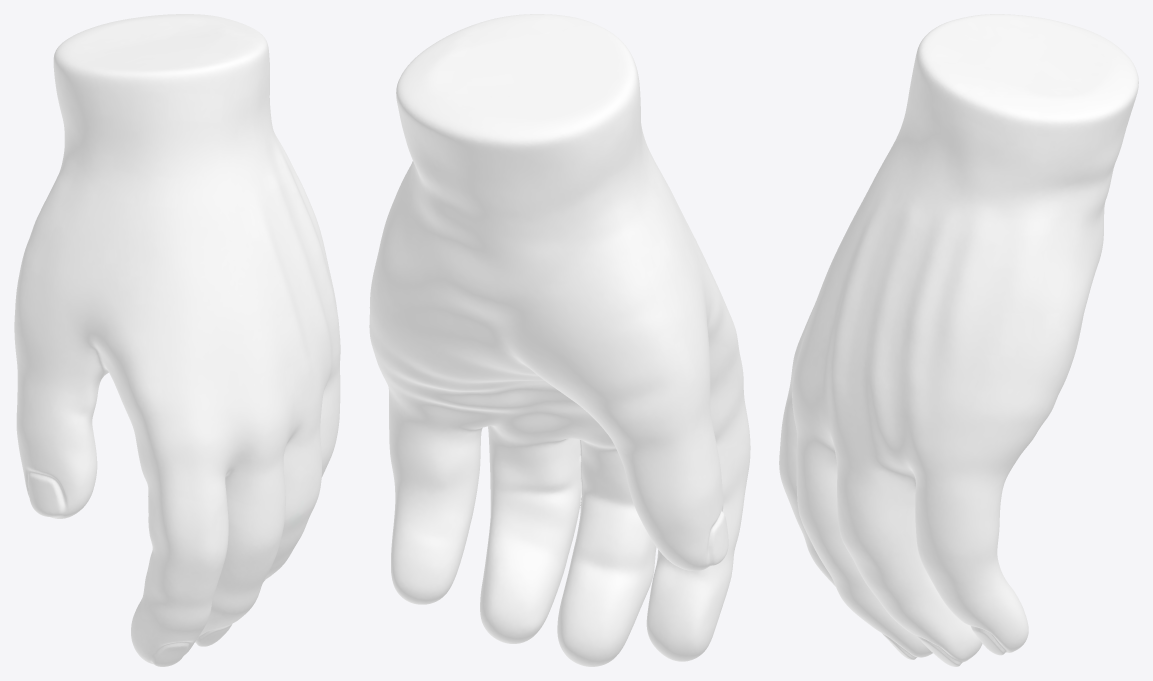
The model's file is mano_derecha.glb.
3 renders of one model, left to right at view 1: azimuth 30°, elevation 25°; view 2: azimuth 150°, elevation 25°; view 3: azimuth 270°, elevation 25°, orthographic. The views are drawn at different scales.
Visible parts, largest first — view 1: mesh_node; view 2: mesh_node; view 3: mesh_node.
Boxes of the visible parts, x1=… form: mesh_node: x1=14, y1=14, x2=340, y2=666; mesh_node: x1=369, y1=14, x2=750, y2=666; mesh_node: x1=779, y1=14, x2=1138, y2=666.
Bounding box in the file's own units: 0.1029 × 0.1899 × 0.1006.
Materials: 1 (1 with a texture image).
